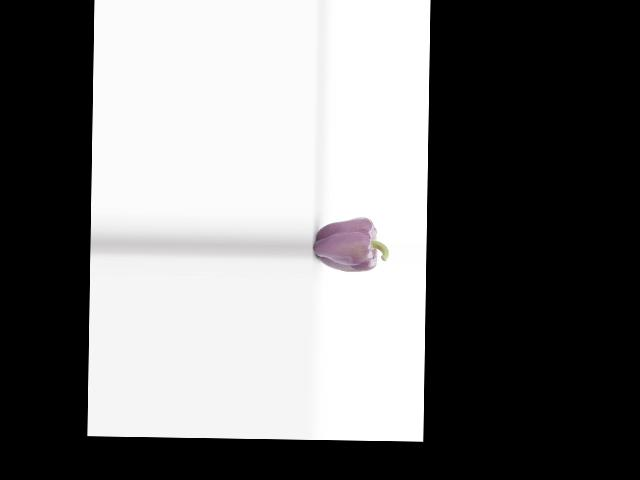bell_pepper: (314, 212, 388, 278)
